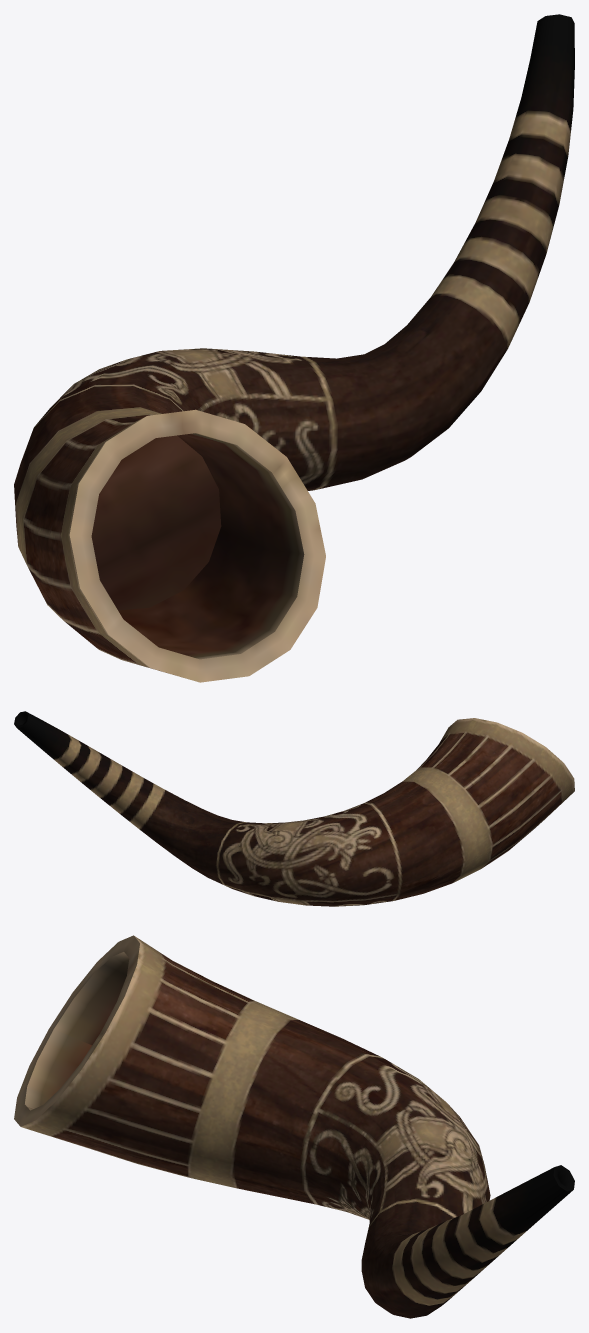
File: dunland_prop_wulf_horn_b.fbx
3 renders of one model, top to bottom at view 1: azimuth 30°, elevation 25°; view 2: azimuth 150°, elevation 25°; view 3: azimuth 270°, elevation 25°, orthographic. The views are drawn at different scales.
Visible parts, largest first — view 1: dunland_prop_wulf_horn_b; view 2: dunland_prop_wulf_horn_b; view 3: dunland_prop_wulf_horn_b.
Part boxes in pixels (<box>): dunland_prop_wulf_horn_b: <box>14,14,574,682</box>; dunland_prop_wulf_horn_b: <box>14,711,574,906</box>; dunland_prop_wulf_horn_b: <box>14,935,574,1318</box>.
Bounding box in the file's own units: 0.3146 × 0.2394 × 0.1226.
1 material, 1 textured.
